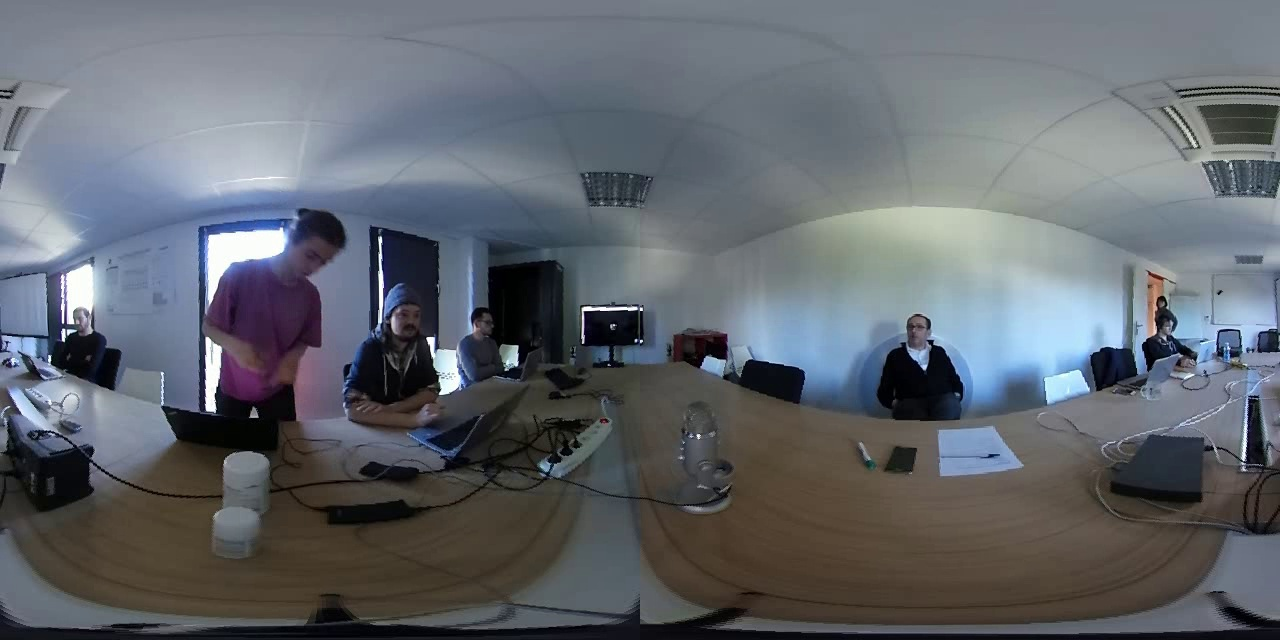person: (197, 192, 341, 432), (346, 270, 441, 406), (867, 301, 968, 424), (35, 298, 120, 379), (458, 300, 502, 376), (1140, 315, 1188, 370), (1141, 279, 1192, 327)
